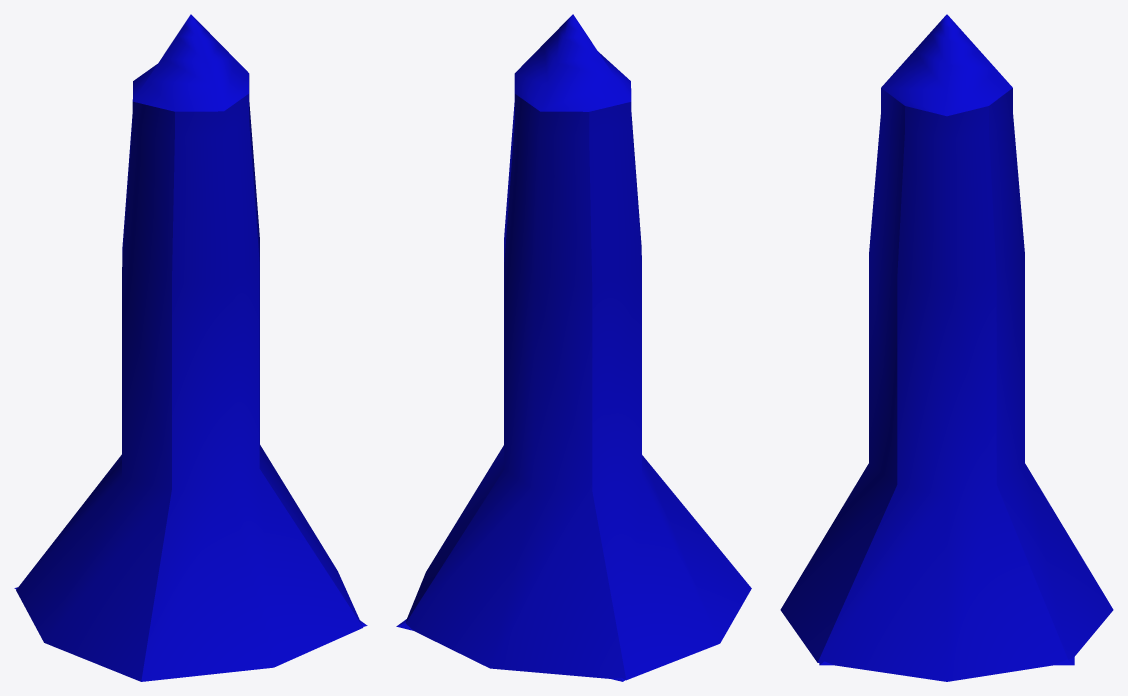
File: missil.FBX
3 renders of one model, left to right at view 1: azimuth 30°, elevation 25°; view 2: azimuth 150°, elevation 25°; view 3: azimuth 270°, elevation 25°, orthographic.
Visible parts, largest first — view 1: Box001; view 2: Box001; view 3: Box001.
Boxes of the visible parts, <box> form: Box001: <box>14,14,367,681</box>; Box001: <box>396,14,751,681</box>; Box001: <box>780,14,1113,681</box>.
Bounding box in the file's own units: 3.13 × 6.04 × 3.06.
